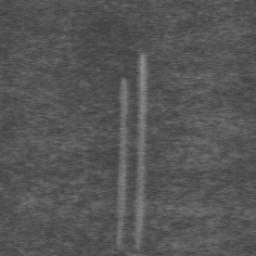Bright scratch: (135, 55, 144, 249), (118, 79, 127, 245)
